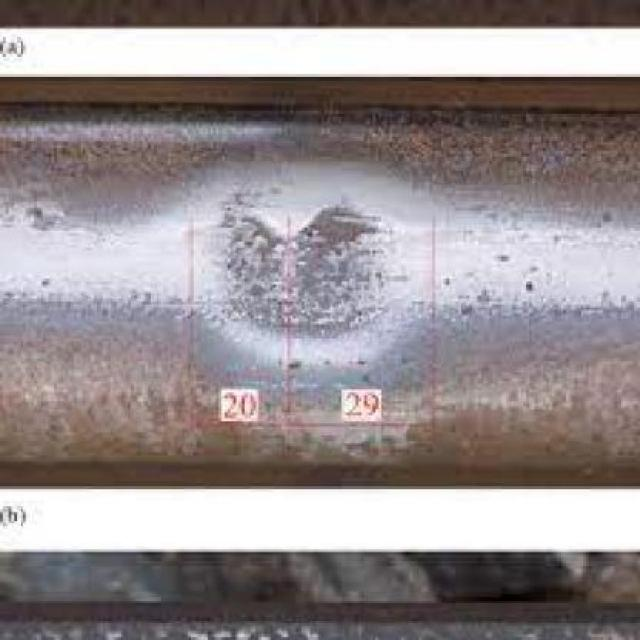defective: (196, 181, 436, 448)
